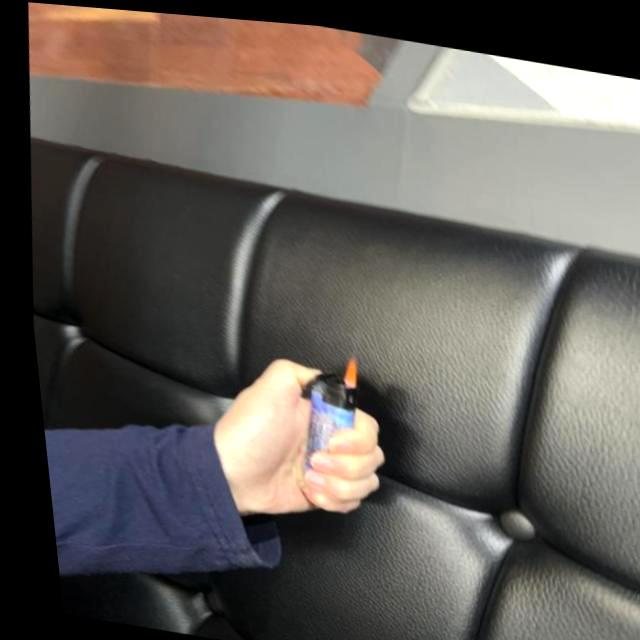fire: (330, 349, 350, 379)
